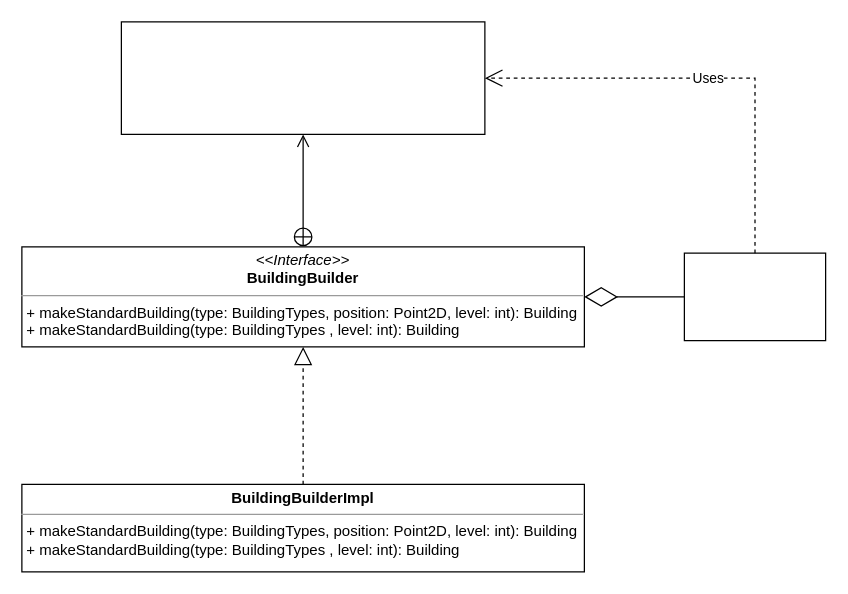
This 848x594 diagram has some shape labels left out. The shapes that lost their labels are listed below. From the top down, each one's centre as x and y in pixels, then its label:
pixel 302 77: <<Enumeration>> BuildingTypes - HALL - LUMBERJACK - FARM
pixel 754 296: Building ...
